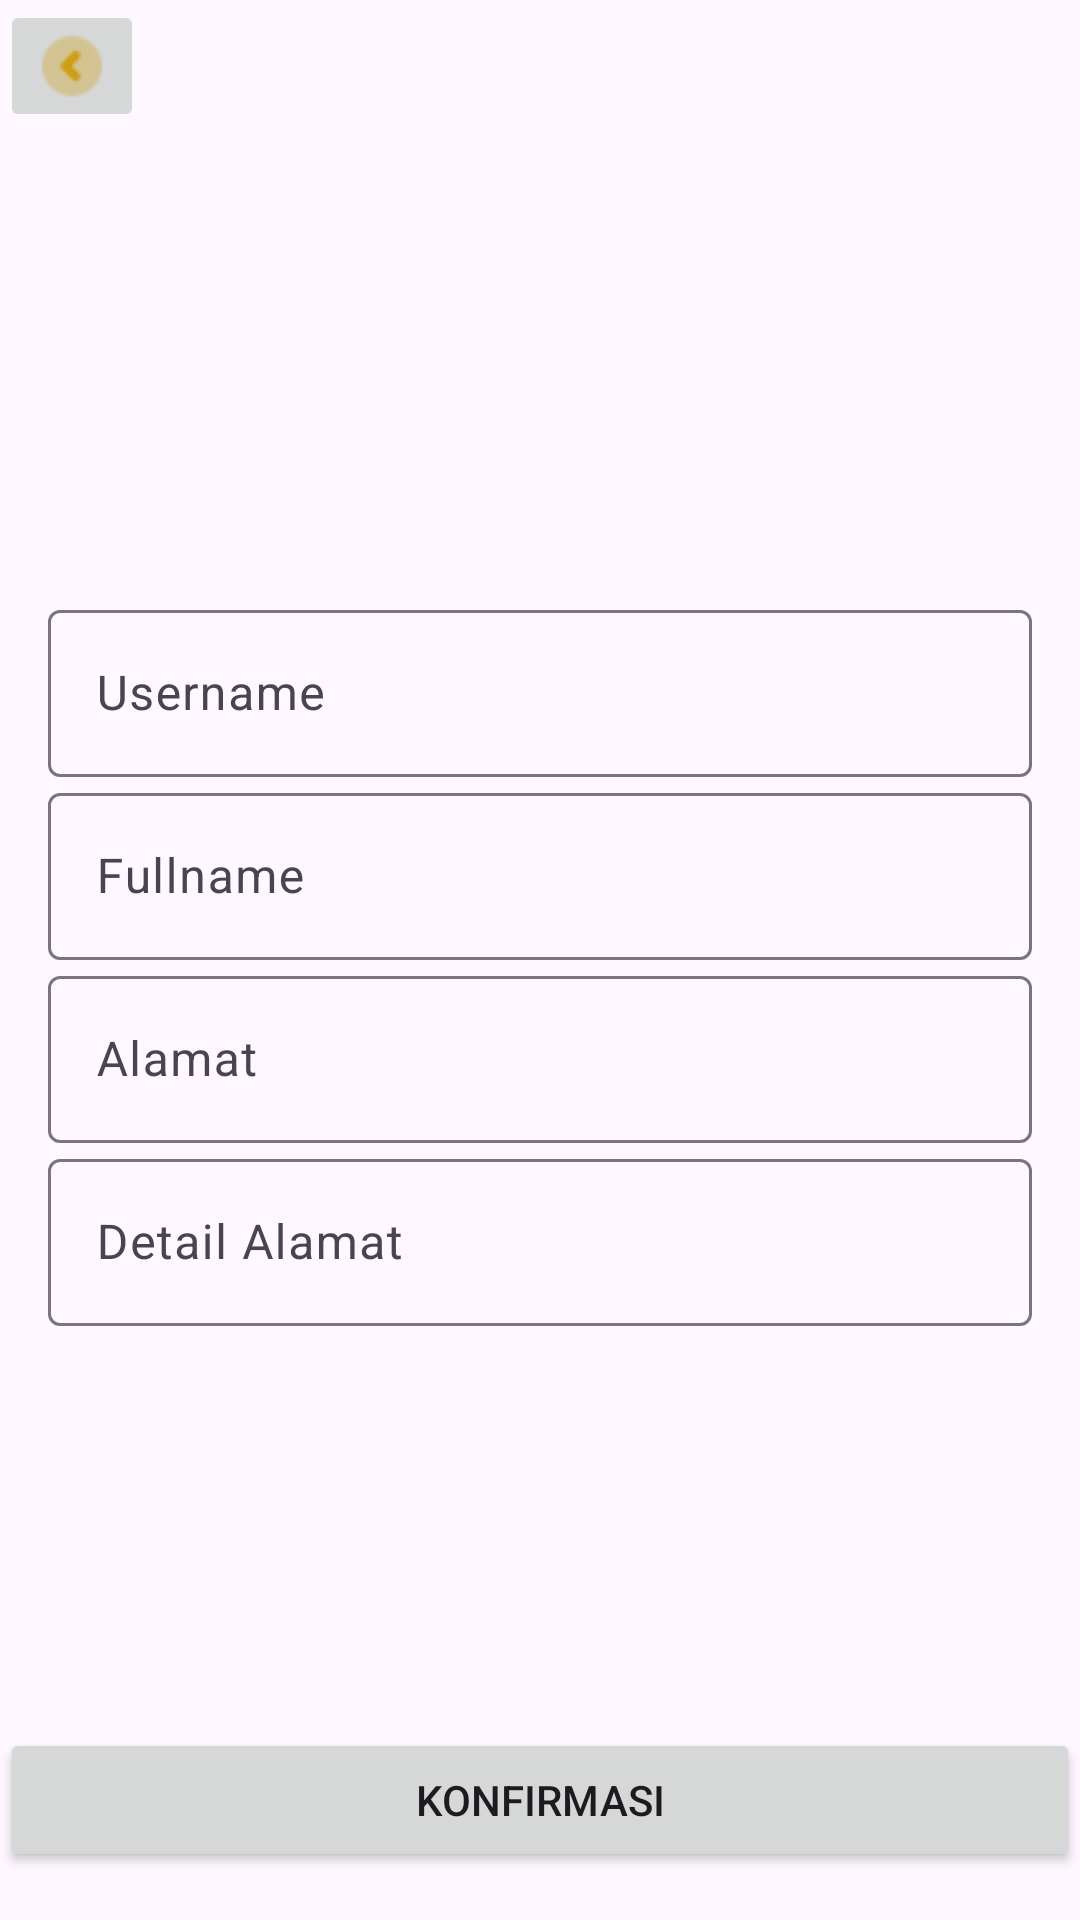

Icons on this 1080x1920 Android screen, each with the point to tap as point (x, y):
arrow left: point (72, 66)
